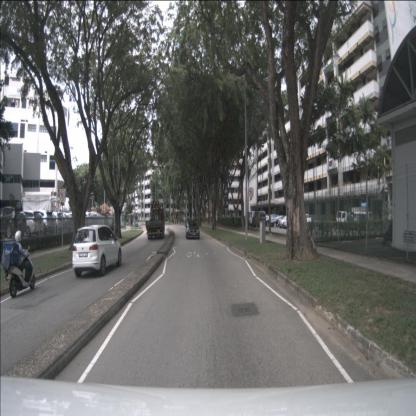vehicle-car: (72, 225, 122, 277), (0, 206, 27, 239), (13, 210, 44, 237), (28, 210, 57, 235), (43, 212, 66, 233), (52, 212, 73, 232), (294, 213, 312, 228), (186, 221, 200, 239), (252, 211, 266, 228), (281, 216, 298, 229), (278, 216, 296, 228), (265, 214, 280, 227), (244, 212, 256, 228), (270, 216, 286, 227)
vehicle-motorcycle: (2, 231, 36, 298)
vehicle-truck: (336, 207, 369, 229), (146, 200, 164, 240), (350, 212, 374, 230)
